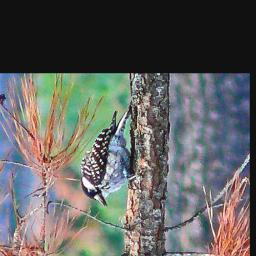Woodpecker: (71, 98, 152, 212)
